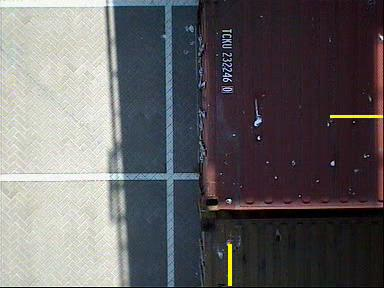groundmarker_2: (162, 139, 248, 254)
